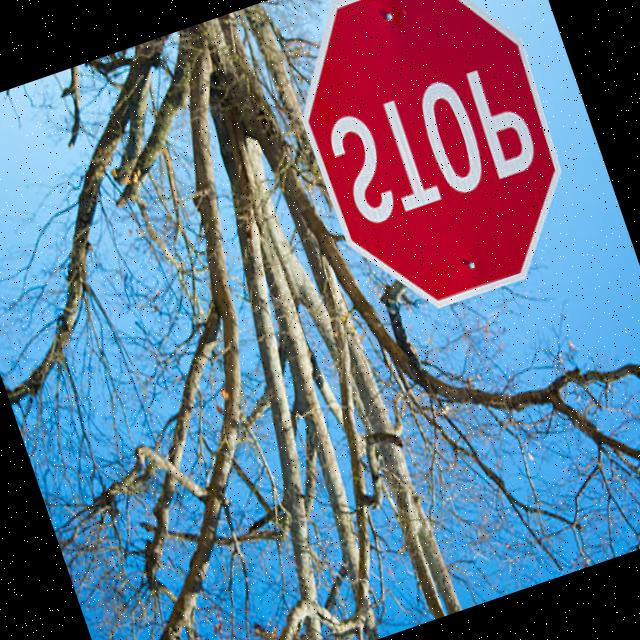stop: (260, 0, 597, 339)
